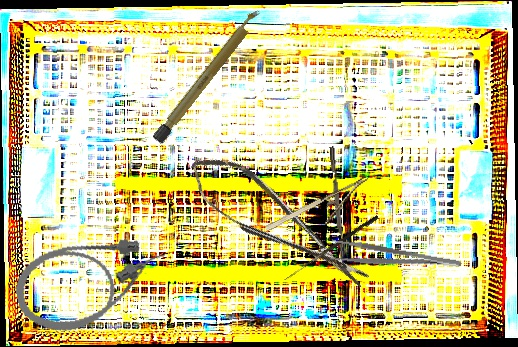Cannula: (9, 227, 176, 340)
Chopper: (329, 145, 352, 277)
Dressing Forceps: (329, 237, 462, 281)
Hook Surgical: (284, 213, 379, 285)
Micro Scissor: (179, 140, 377, 308)
Needle Holder: (263, 175, 379, 249)
Scalpel Handle: (151, 5, 265, 146)
